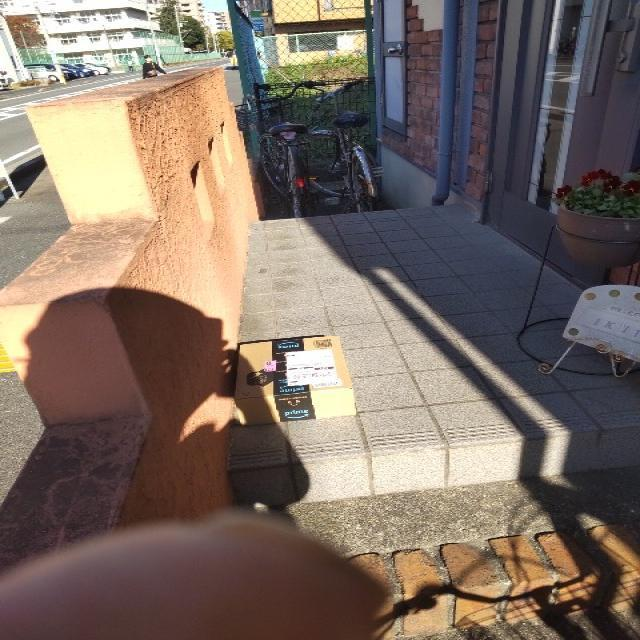-: (230, 324, 368, 433)
